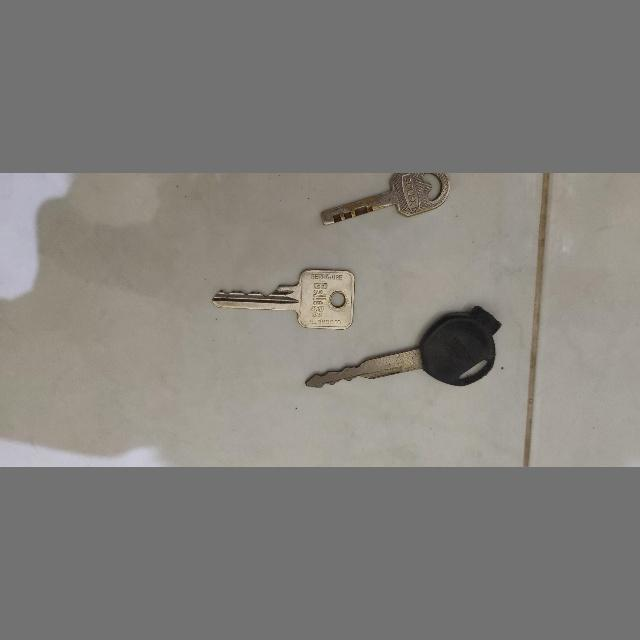Keys: (304, 306, 504, 394), (205, 267, 359, 337), (316, 172, 452, 228)
